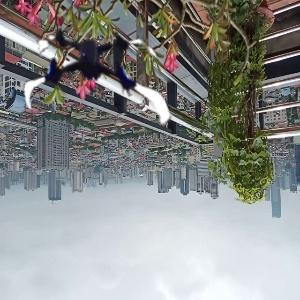drone: (17, 2, 165, 150)
